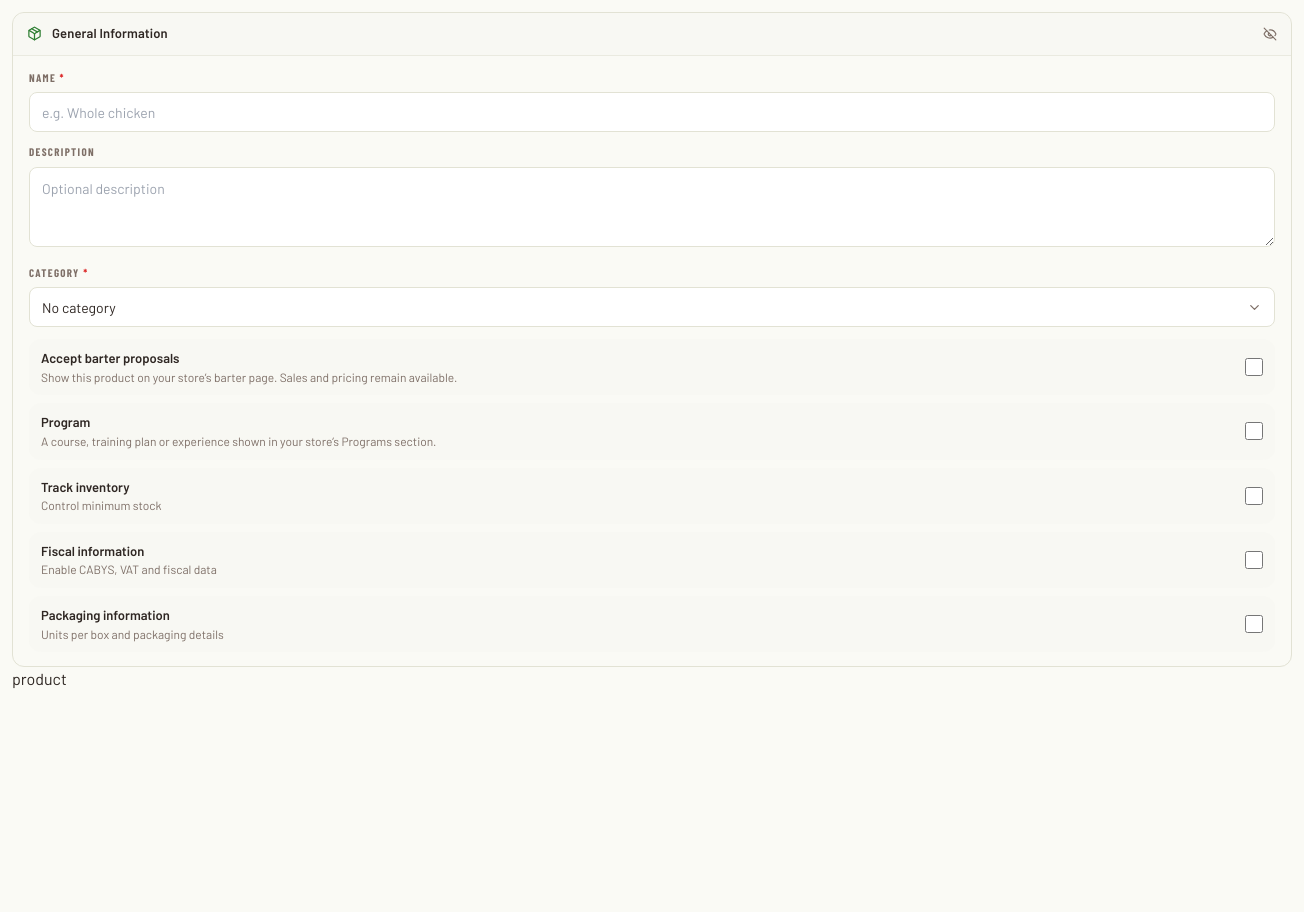
Test: program checkbox in the shared product editor › saves program classification through the existing product payload
What coordinates should you click on to do the following:
click the checkbox named "Program"
I would click on:
 (1254, 431)
Its box is [1245,422,1263,440].
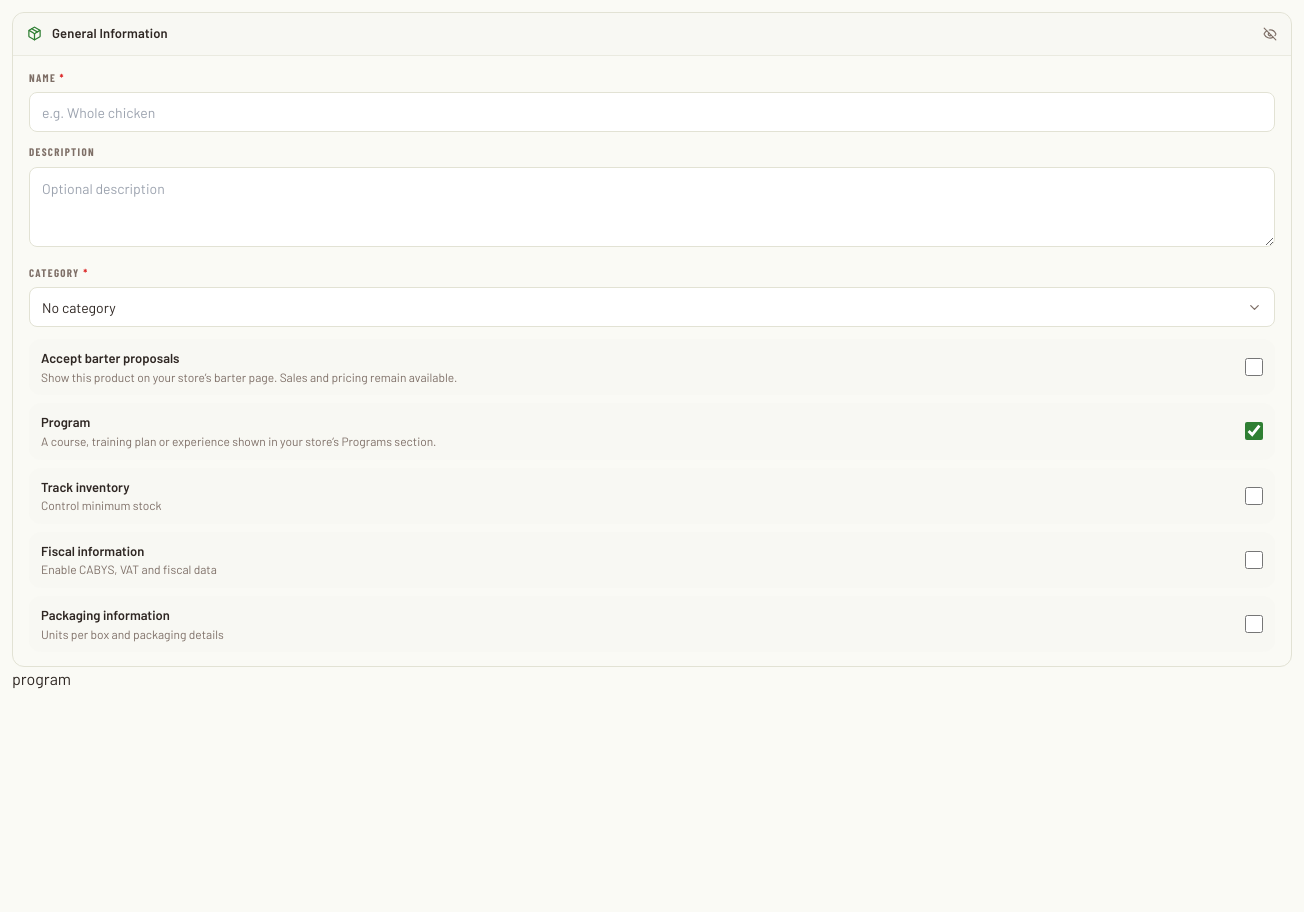
Now the text named "Saved catalog type" reads "program", box [12,670,71,688]
What coordinates should you click on to do the following:
click the checkbox named "Program"
I would click on:
 (1254, 431)
Its box is [1245,422,1263,440].
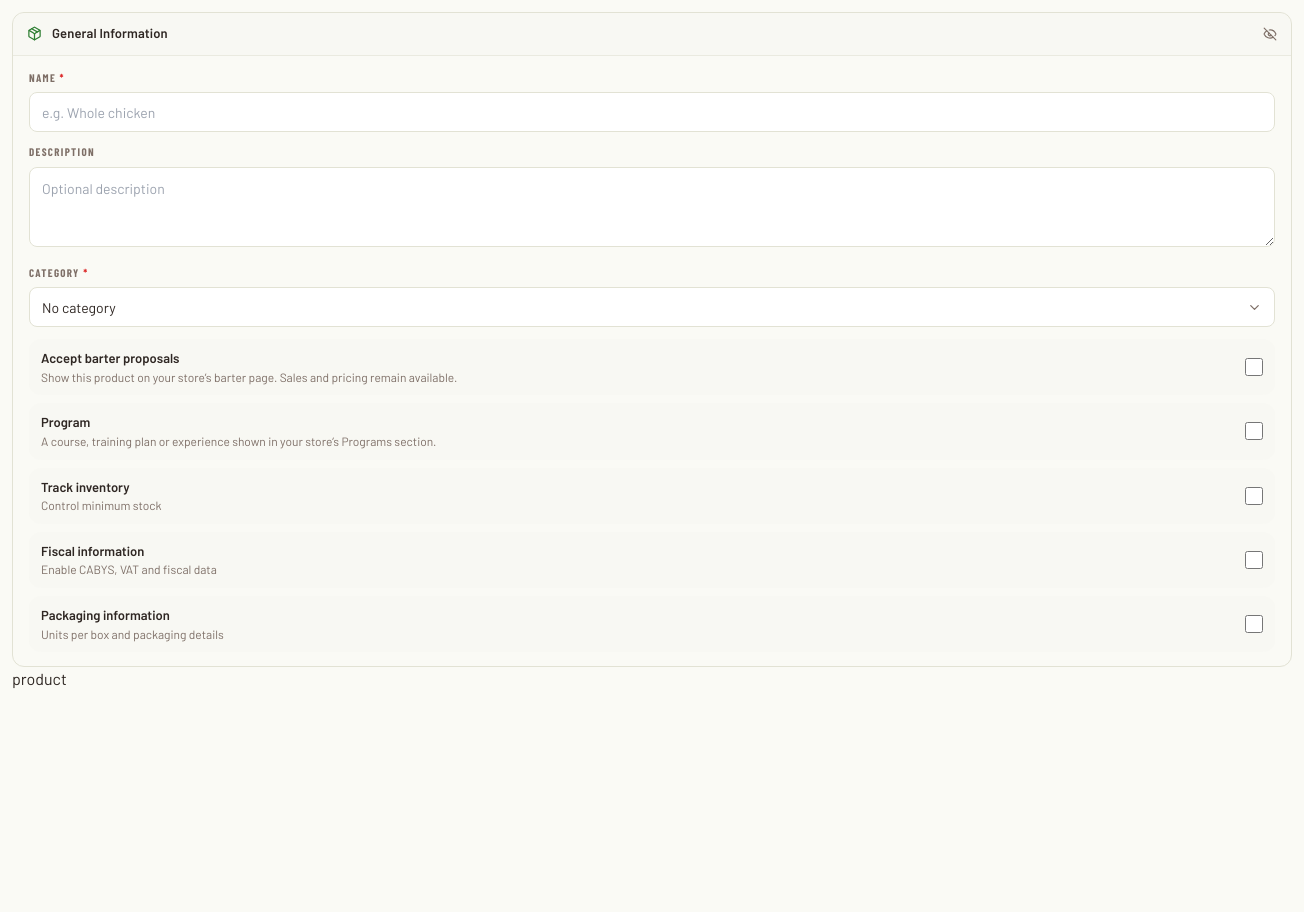
Now the text named "Saved catalog type" reads "product", box [12,670,67,688]
